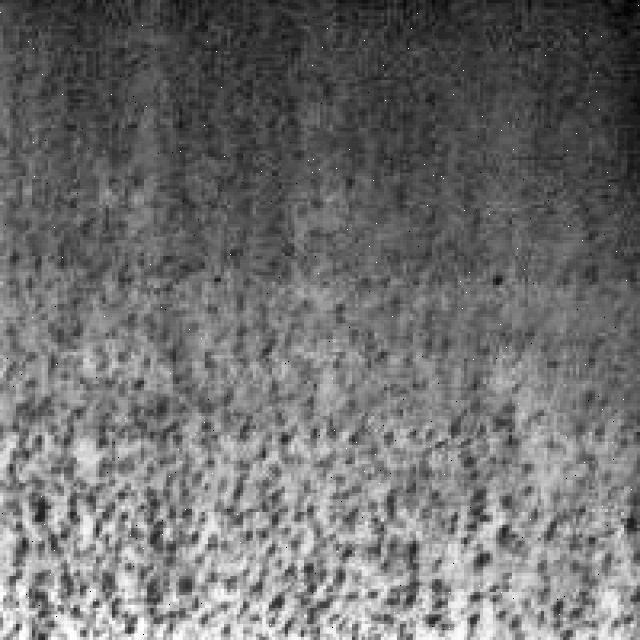Rolled_in_Scale: (13, 176, 621, 618)
